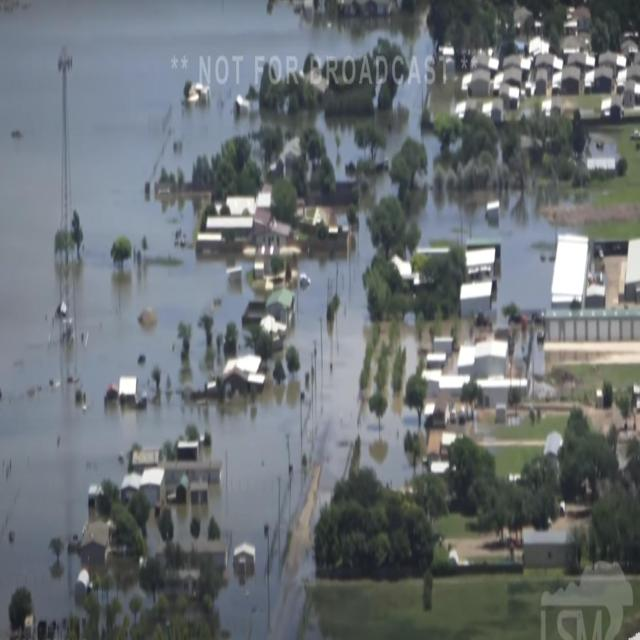flood: (0, 0, 463, 634), (0, 233, 540, 638), (410, 184, 558, 322)
house: (553, 228, 591, 314), (158, 453, 224, 486), (459, 339, 510, 377), (125, 467, 166, 510), (224, 355, 266, 395), (207, 215, 255, 243), (82, 519, 110, 562), (266, 285, 296, 323), (460, 281, 493, 315), (232, 539, 258, 582), (262, 218, 292, 254), (467, 246, 498, 280), (626, 239, 640, 300), (469, 69, 492, 104), (560, 63, 582, 97), (117, 375, 140, 403), (596, 67, 614, 99), (434, 335, 456, 356), (534, 67, 549, 96), (505, 68, 524, 89), (426, 351, 446, 368)
